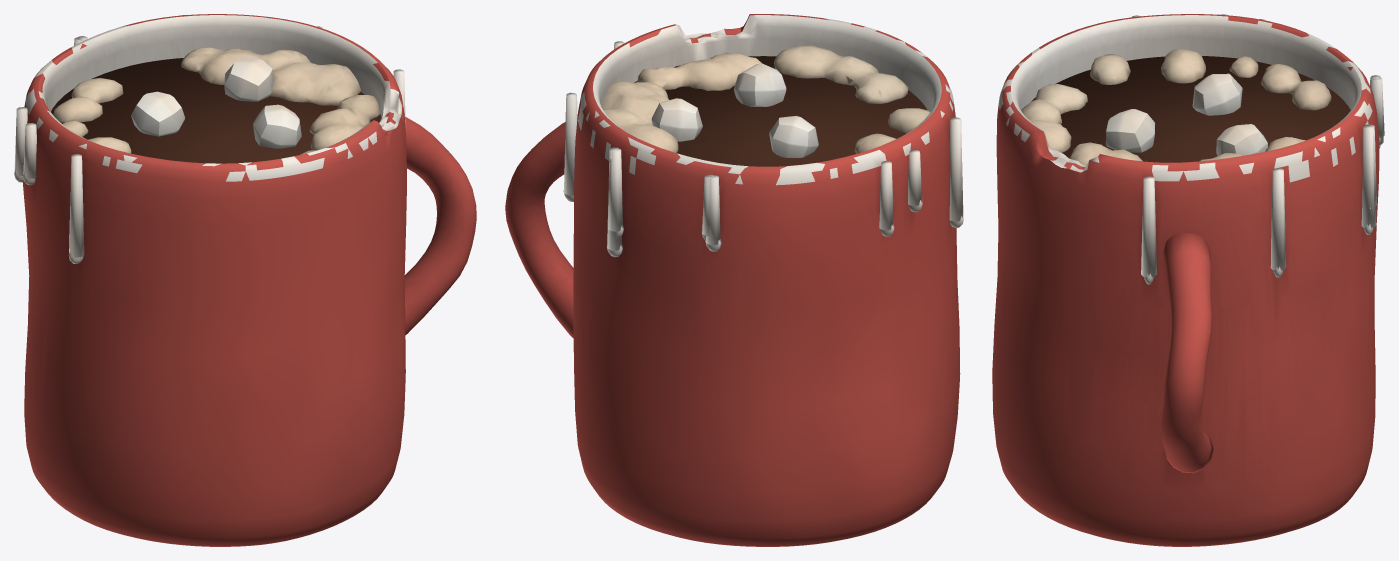
File: frost_cocoa_mug.glb
The picture shows the model from 3 angles, left to right: view 1: azimuth 30°, elevation 25°; view 2: azimuth 150°, elevation 25°; view 3: azimuth 270°, elevation 25°; orthographic projection.
Parts seen in each view (by area): view 1: frost_cocoa_mug, cocoa_surface; view 2: frost_cocoa_mug, cocoa_surface; view 3: frost_cocoa_mug, cocoa_surface.
Boxes of the visible parts, x1,y1,x2,y2 form: frost_cocoa_mug: (14,14,476,546); cocoa_surface: (51,58,381,163); frost_cocoa_mug: (505,14,963,546); cocoa_surface: (634,56,927,166); frost_cocoa_mug: (992,14,1384,546); cocoa_surface: (1031,56,1350,162).
Size of the model in its own units: 34.02 by 30 by 26.73.
